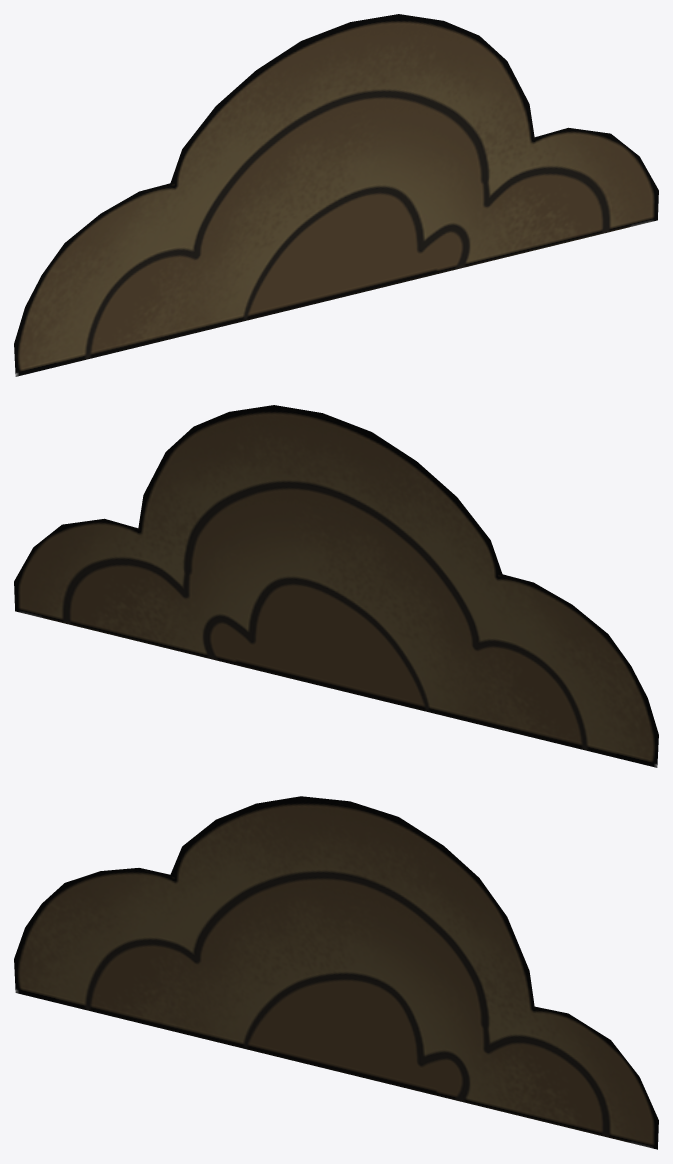
Rendered from bushA.fbx.
The picture shows the model from 3 angles, top to bottom: view 1: azimuth 30°, elevation 25°; view 2: azimuth 150°, elevation 25°; view 3: azimuth 330°, elevation 25°; orthographic projection.
Parts seen in each view (by area): view 1: bushA_; view 2: bushA_; view 3: bushA_.
Boxes of the visible parts, <box> form: bushA_: <box>14,14,658,376</box>; bushA_: <box>14,405,658,767</box>; bushA_: <box>14,796,658,1149</box>.
Size of the model in its own units: 143 by 58.04 by 7.63e-06.
